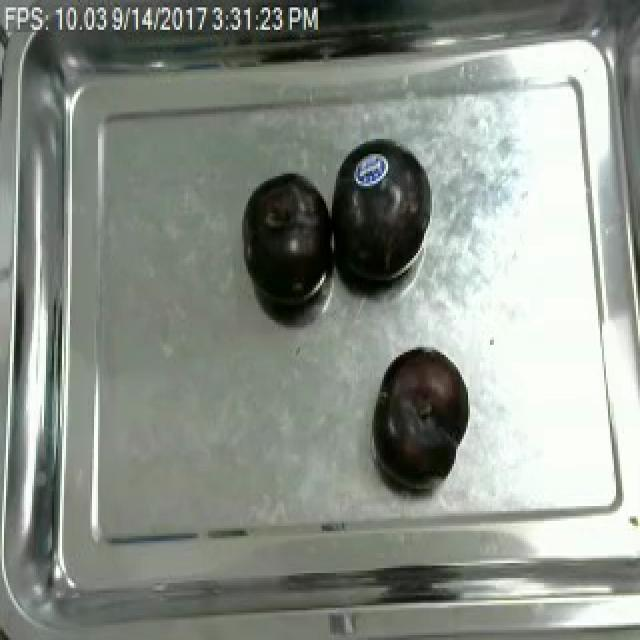Fruit: (322, 139, 436, 293), (370, 342, 470, 489), (238, 169, 336, 310)
